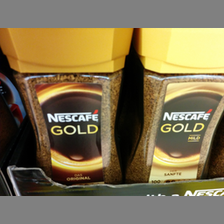coffee: (1, 28, 135, 185), (123, 28, 224, 181)
